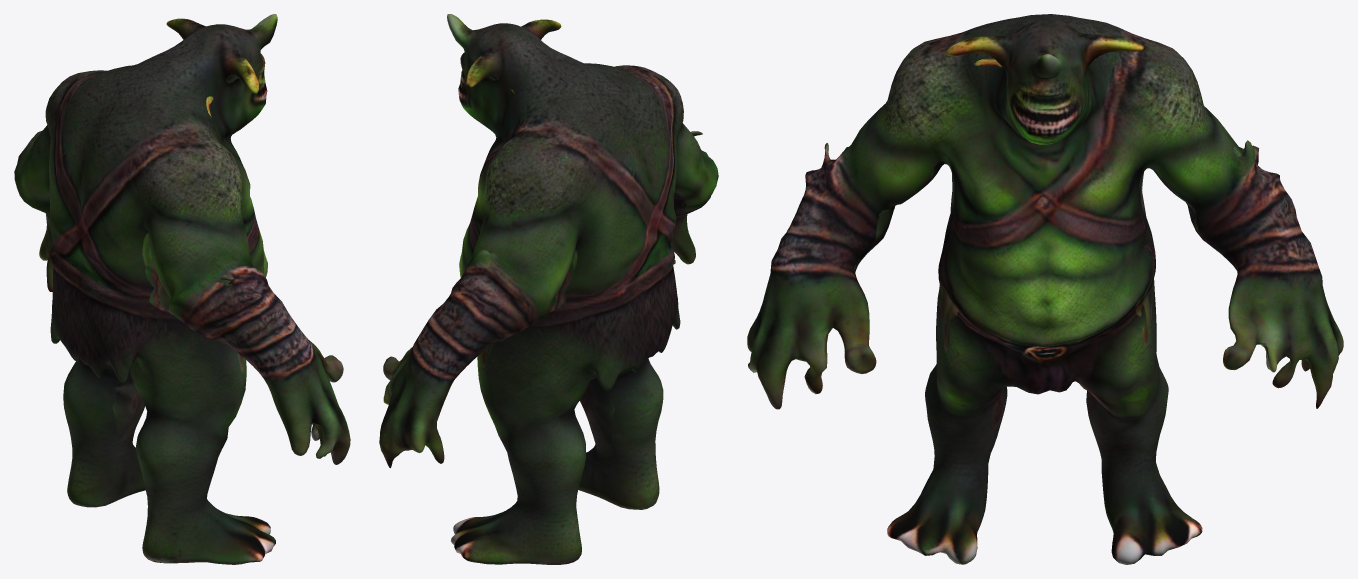
Rendered from ogre.glb.
3 renders of one model, left to right at view 1: azimuth 30°, elevation 25°; view 2: azimuth 150°, elevation 25°; view 3: azimuth 270°, elevation 25°, orthographic. The views are drawn at different scales.
Visible parts, largest first — view 1: mesh; view 2: mesh; view 3: mesh.
Part boxes in pixels (x1,y1,x2,y2): mesh: [14, 14, 350, 564]; mesh: [379, 14, 718, 564]; mesh: [747, 14, 1343, 564].
Bounding box in the file's own units: 0.4444 × 0.9908 × 0.997.
1 material, 1 textured.
